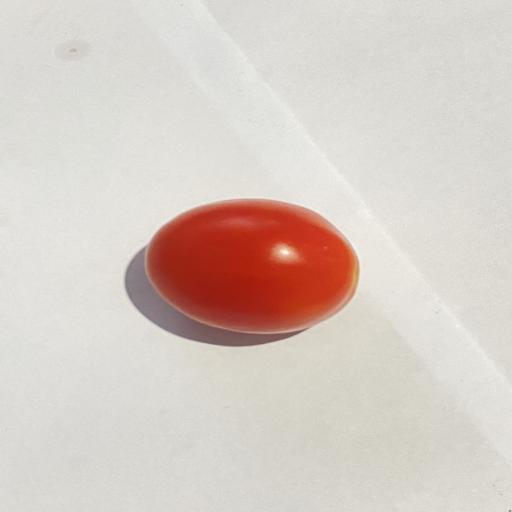ripe: (145, 199, 358, 334)
